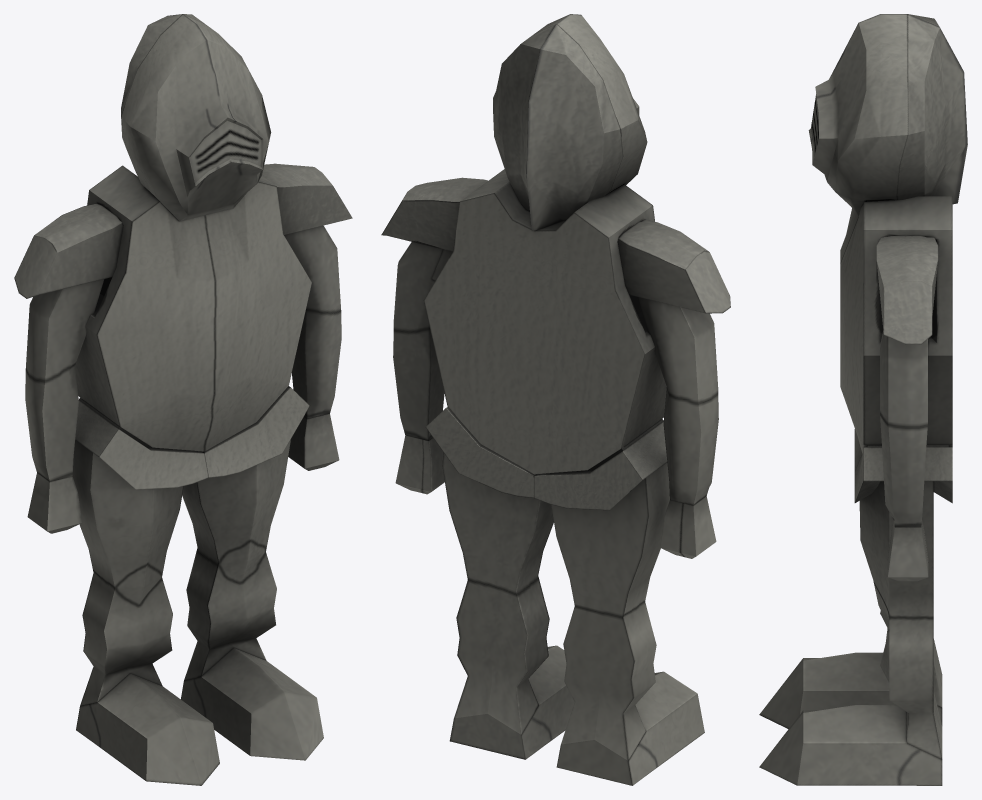
The model's file is zxy_Armor.fbx.
3 views of the same model, side by side, from view 1: azimuth 30°, elevation 25°; view 2: azimuth 150°, elevation 25°; view 3: azimuth 270°, elevation 25° (orthographic). The views are drawn at different scales.
Visible parts, largest first — view 1: suit_of_armor; view 2: suit_of_armor; view 3: suit_of_armor.
Boxes of the visible parts, <box> form: suit_of_armor: <box>14,14,352,785</box>; suit_of_armor: <box>381,14,730,785</box>; suit_of_armor: <box>759,14,967,785</box>.
Bounding box in the file's own units: 7.99 × 16.51 × 4.29.
